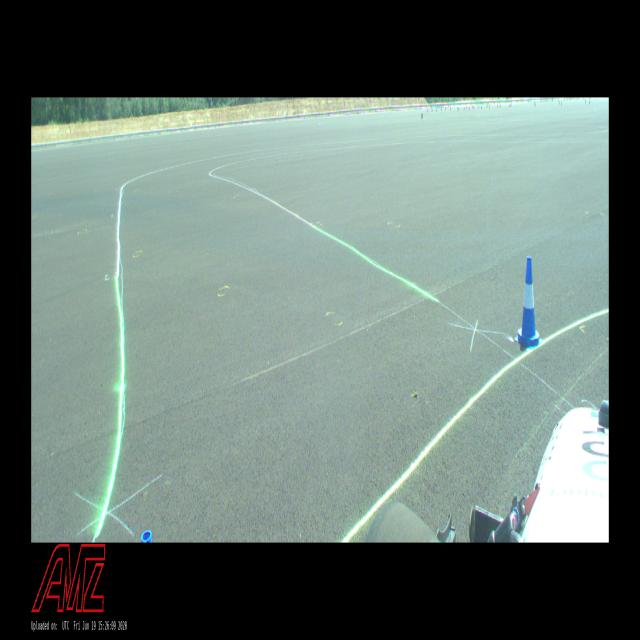blue_cone: (514, 256, 542, 349)
